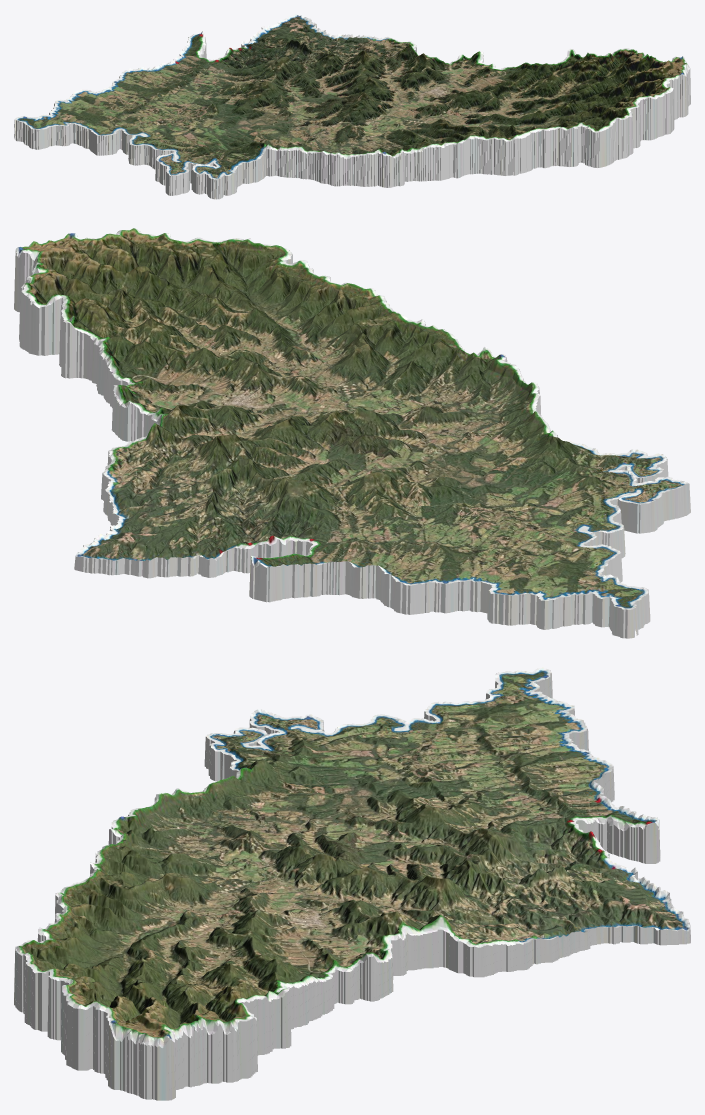
The picture shows the model from 3 angles, top to bottom: view 1: azimuth 30°, elevation 25°; view 2: azimuth 150°, elevation 25°; view 3: azimuth 270°, elevation 25°; orthographic projection. The views are drawn at different scales.
Size of the model in its own units: 0.9968 by 0.0762 by 0.707.
Materials: 1 (1 with a texture image).
